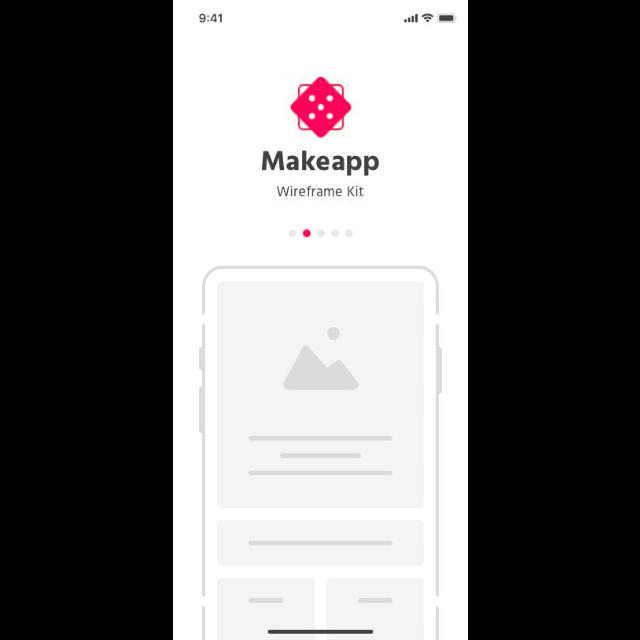image: (199, 266, 441, 640), (291, 78, 351, 138)
pageindicator: (288, 230, 354, 238)
text: (260, 151, 380, 177), (276, 186, 364, 197)
uppertaskbar: (199, 13, 457, 24)
